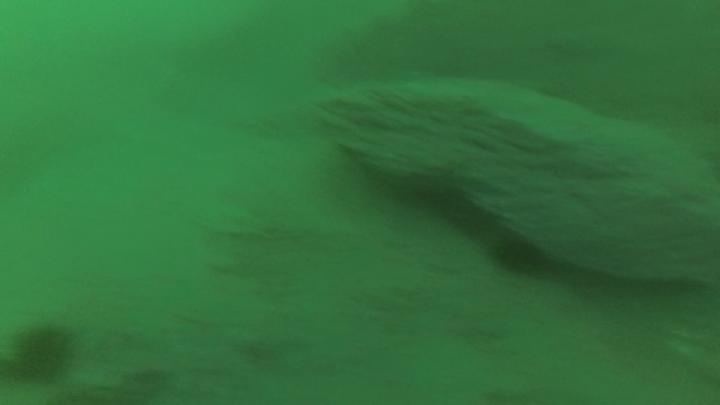echinus: (5, 318, 79, 387), (491, 233, 549, 279)
